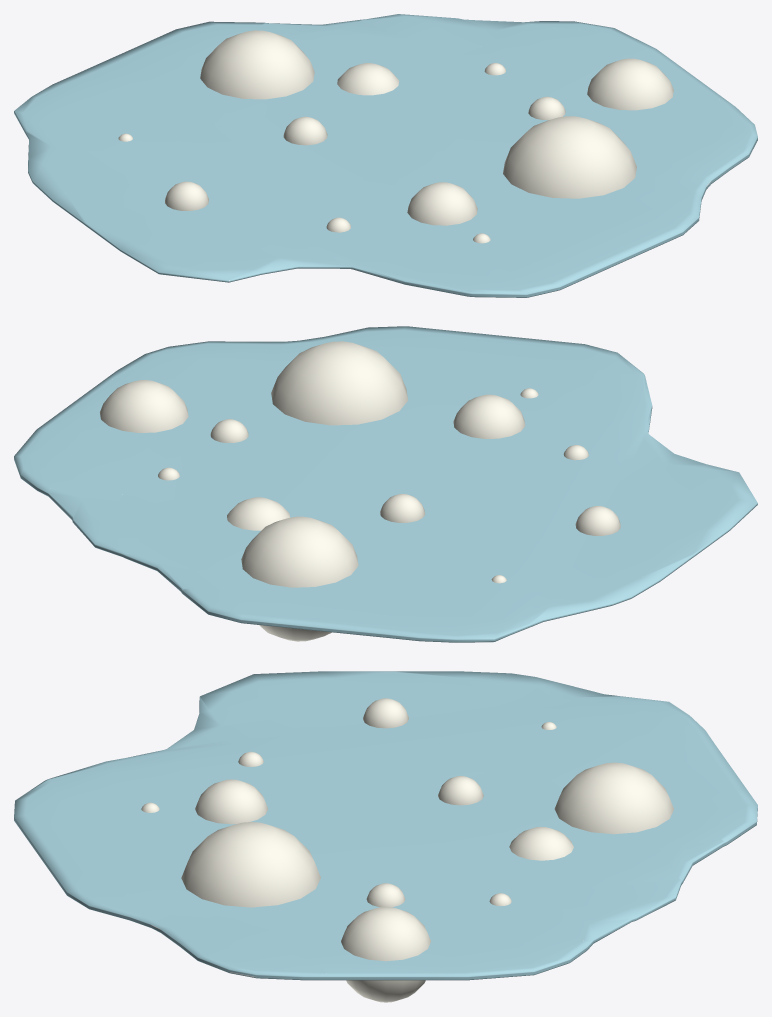
Rendered from Bubbles2.fbx.
The picture shows the model from 3 angles, top to bottom: view 1: azimuth 30°, elevation 25°; view 2: azimuth 150°, elevation 25°; view 3: azimuth 270°, elevation 25°; orthographic projection. The views are drawn at different scales.
Parts seen in each view (by area): view 1: bubbles2; view 2: bubbles2; view 3: bubbles2.
Part boxes in pixels (x1,y1,x2,y2): bubbles2: (14, 14, 757, 297); bubbles2: (14, 326, 757, 642); bubbles2: (14, 671, 757, 1002).
Size of the model in its own units: 31.96 by 32.81 by 6.45.
